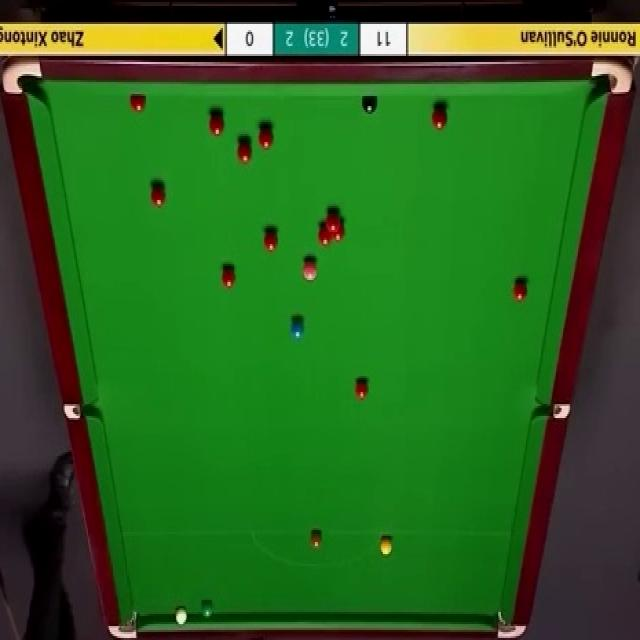pocket: (591, 57, 633, 95), (3, 58, 43, 96), (494, 609, 529, 640), (108, 609, 138, 640), (533, 403, 572, 420), (65, 403, 99, 420)
